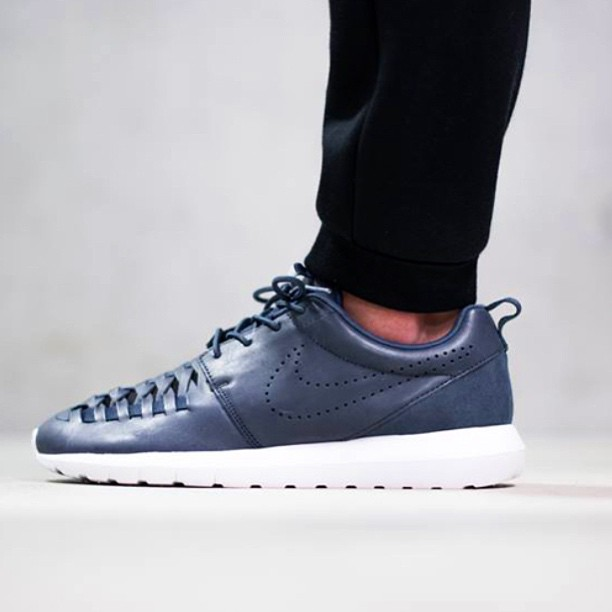sneaker: (8, 223, 554, 516)
